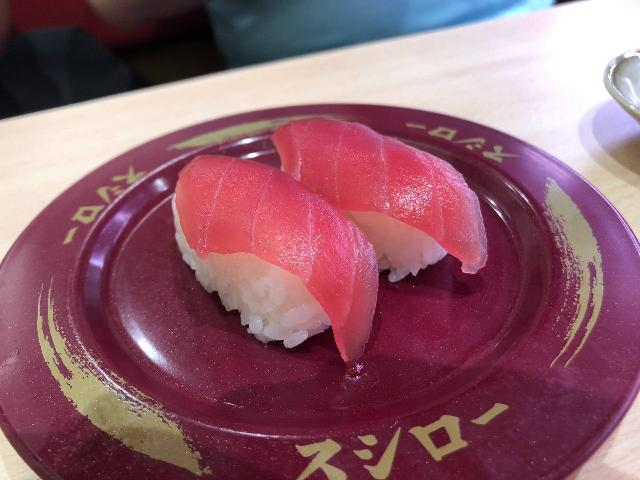janred: (3, 132, 612, 458)
